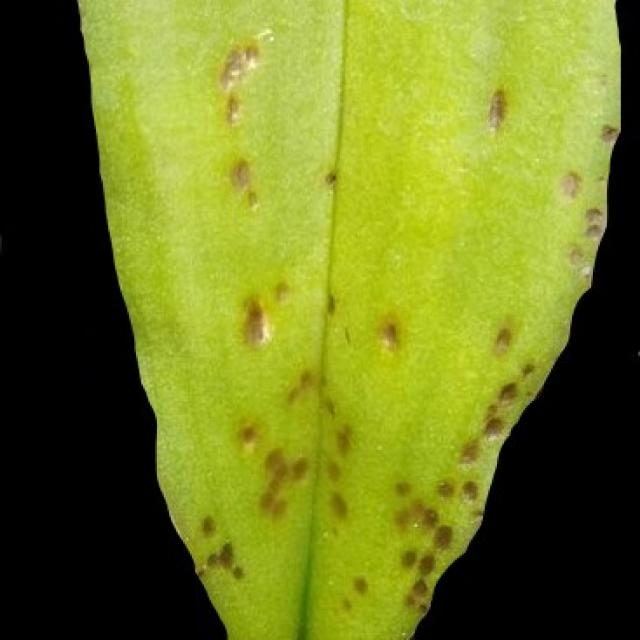mite: (403, 575, 431, 612), (377, 316, 401, 352), (490, 323, 513, 356), (326, 488, 349, 521), (431, 521, 453, 551), (214, 539, 235, 569), (480, 413, 504, 439), (495, 378, 518, 405), (396, 544, 417, 570), (459, 476, 480, 502), (391, 476, 413, 499), (434, 476, 455, 500), (197, 513, 216, 537), (351, 572, 370, 595)
spots: (68, 0, 624, 638)
